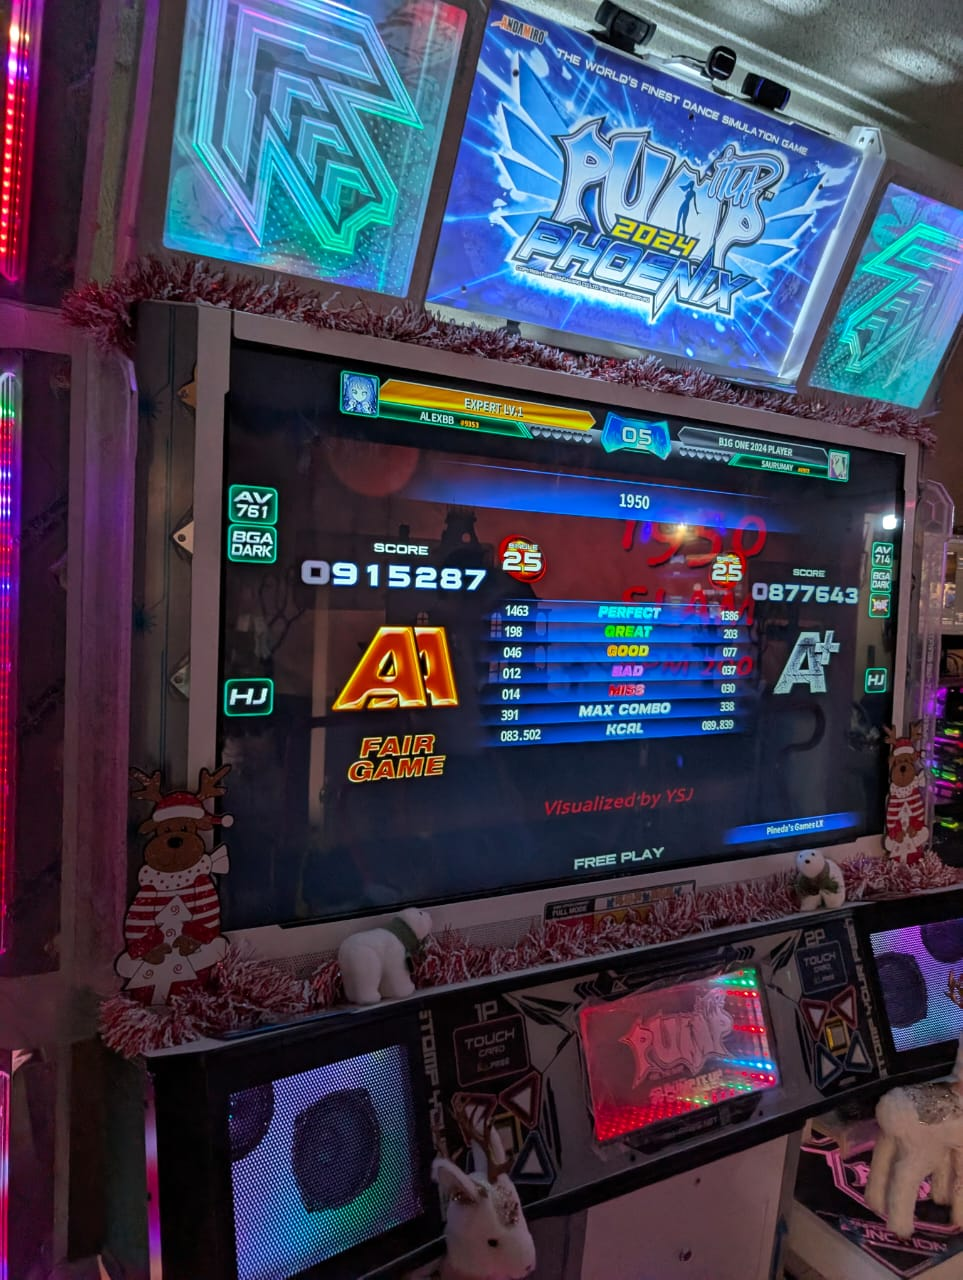difficulty: (484, 536, 561, 578)
fullscore: (221, 341, 920, 878)
rank: (329, 606, 464, 729)
score: (284, 522, 498, 598)
song_name: (561, 470, 708, 524)
